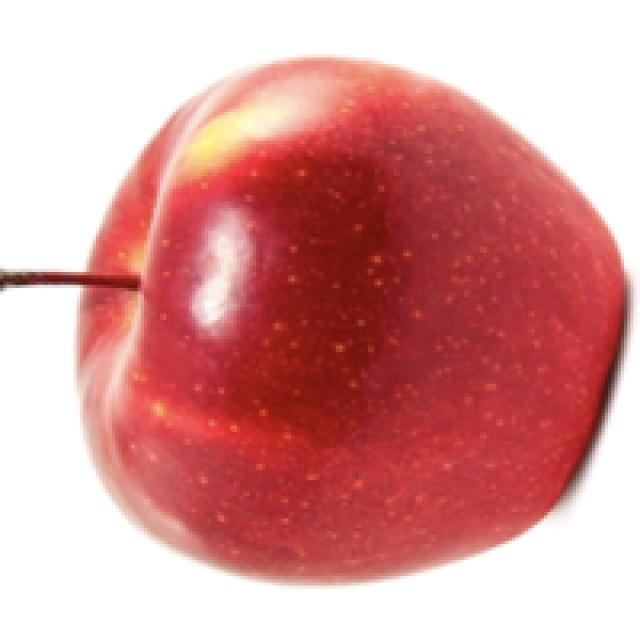apple: (67, 51, 637, 589)
